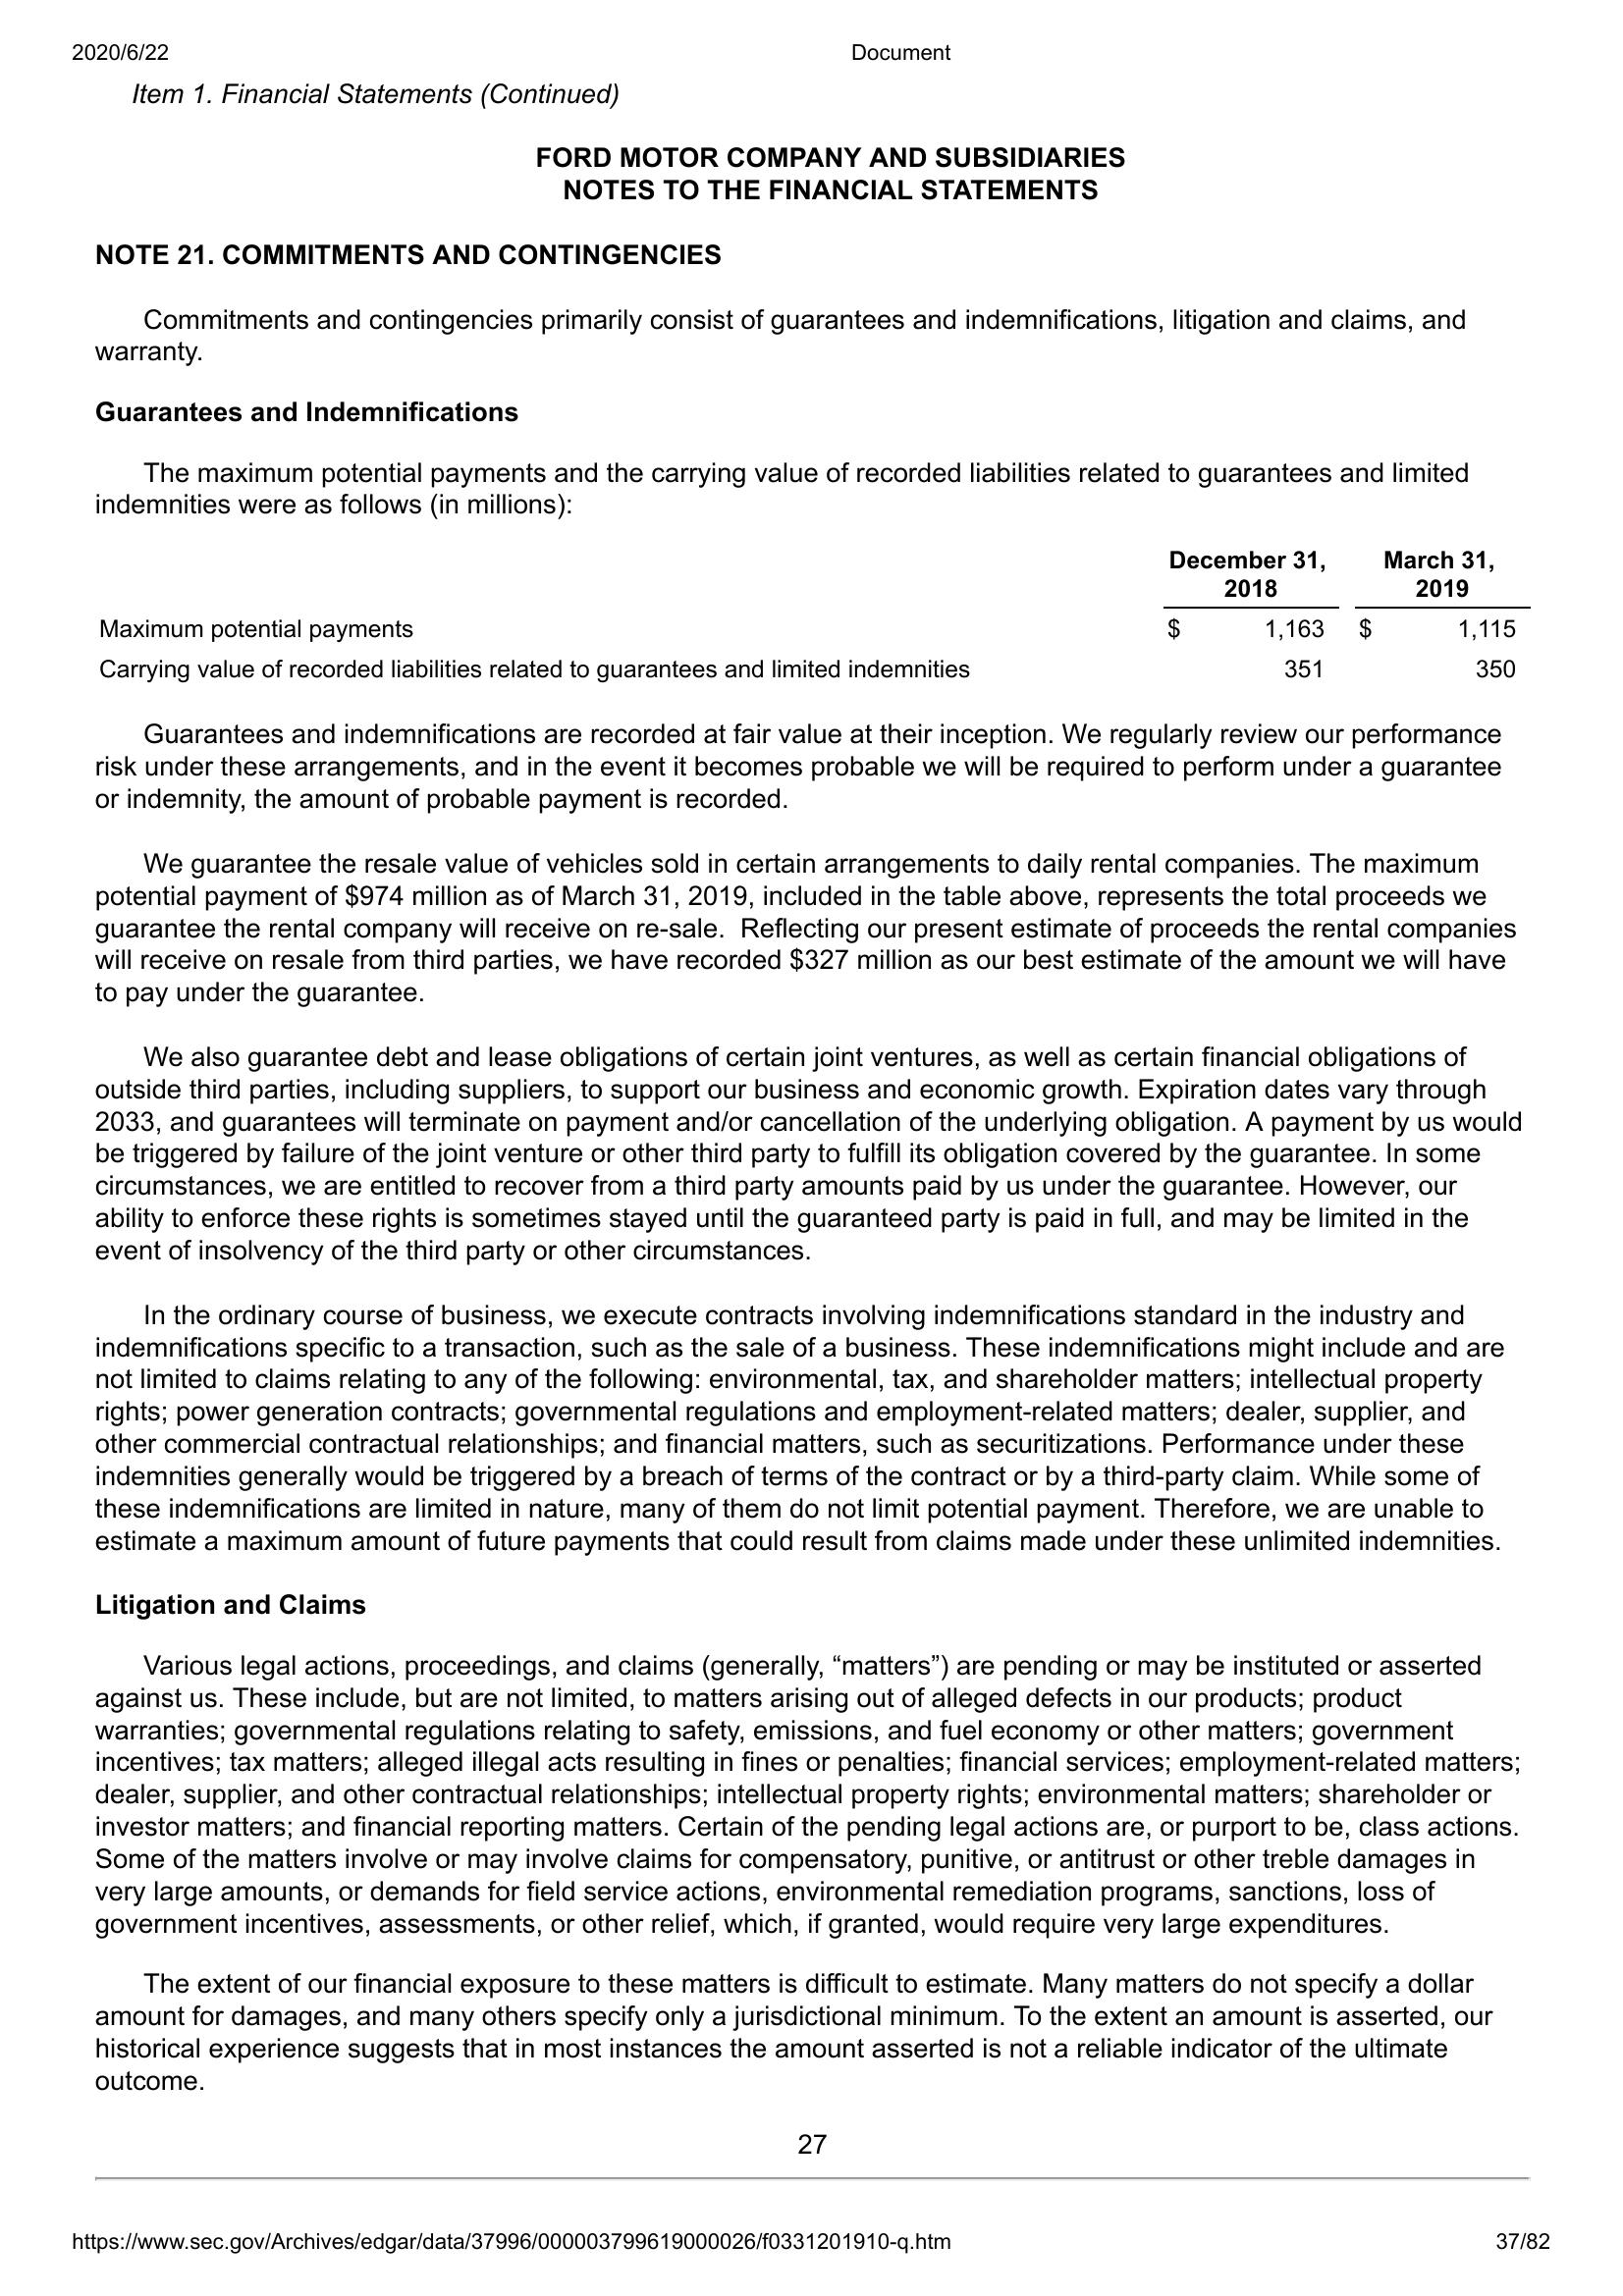table: (90, 539, 1533, 688)
